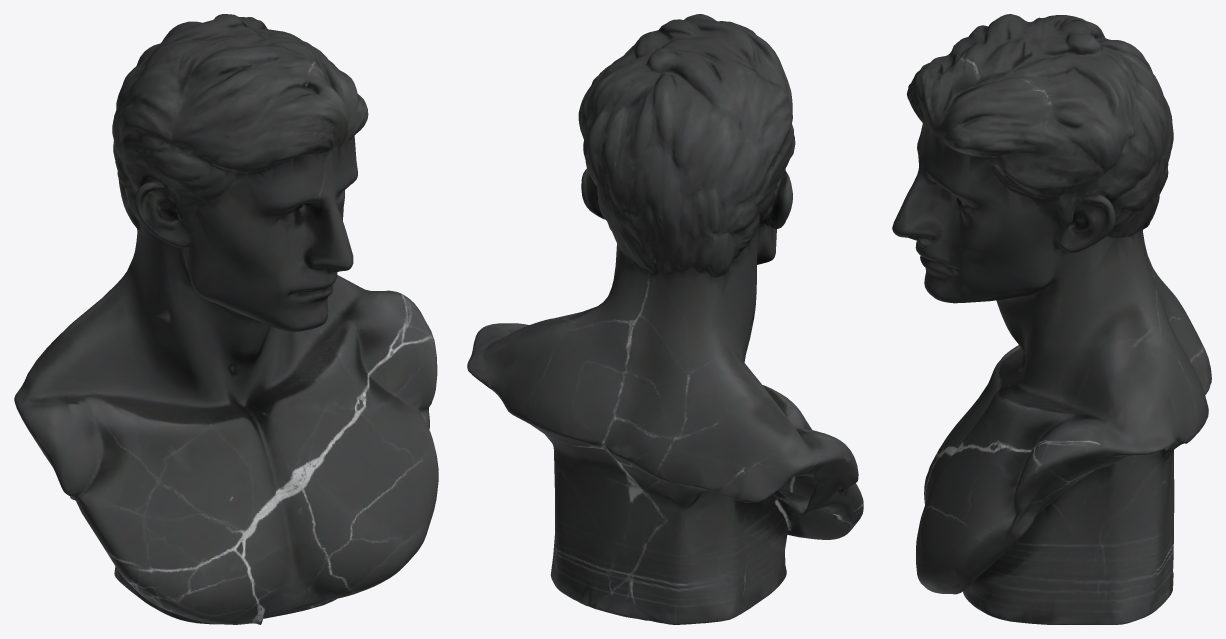
3 views of the same model, side by side, from view 1: azimuth 30°, elevation 25°; view 2: azimuth 150°, elevation 25°; view 3: azimuth 270°, elevation 25° (orthographic). The views are drawn at different scales.
Bounding box in the file's own units: 1.42 × 2 × 1.06.
1 material, 1 textured.
